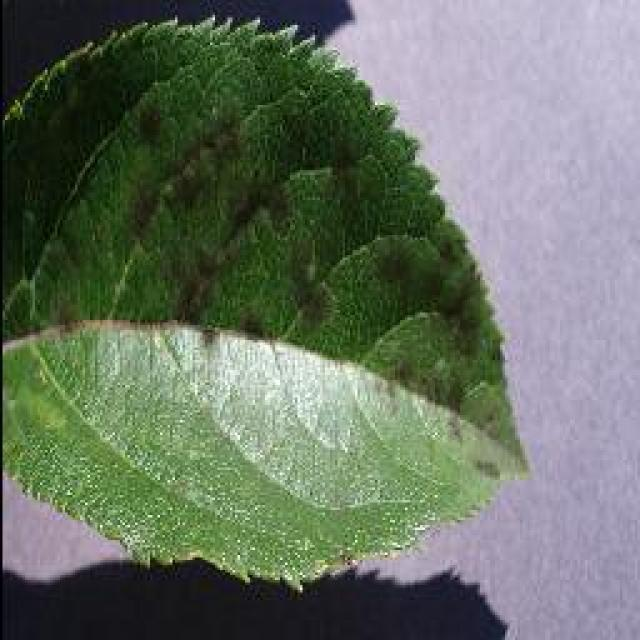apple scab disease: (0, 10, 532, 590)
